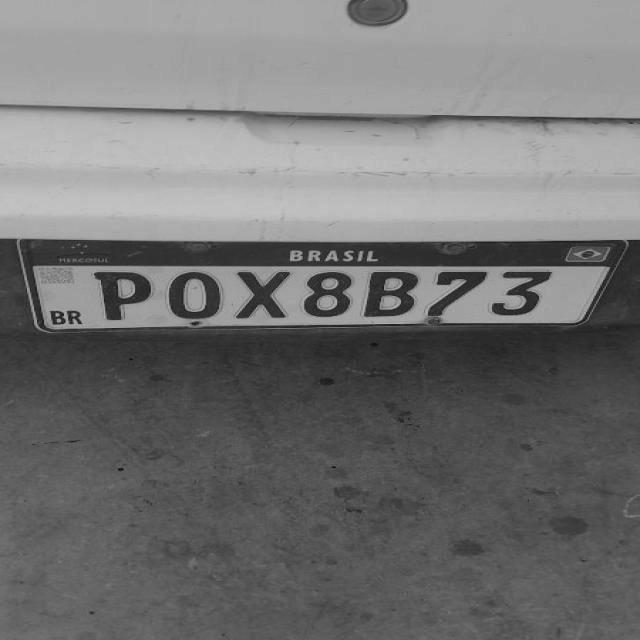placa_mercosul: (18, 240, 627, 330)
